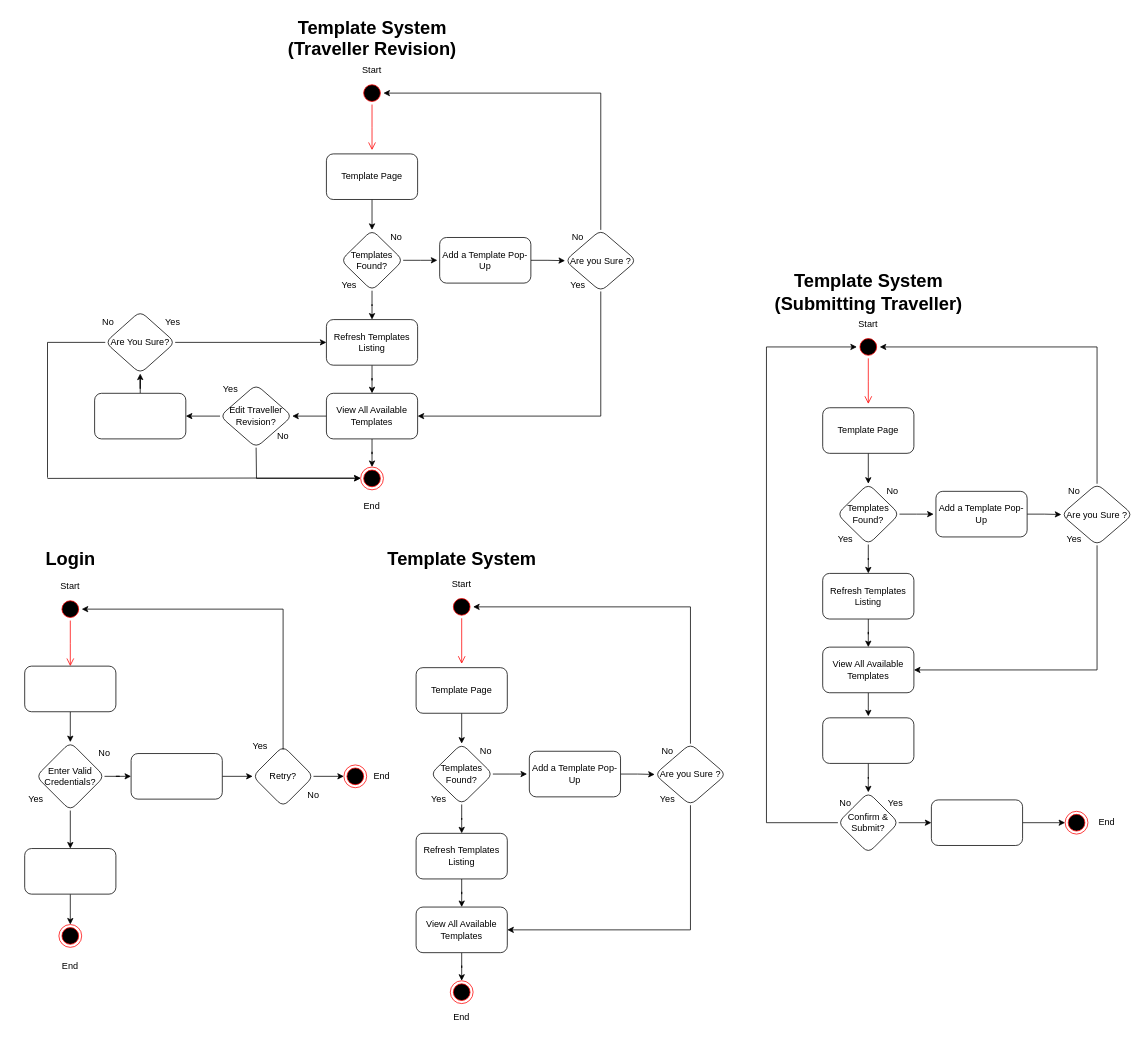
Some shapes in this 1146 by 1041 pixel diagram are drawn without their labels. Here are the shapes that lost their labels. From the top down, the centre of each, then its label:
At (x=140, y=416): "Traveller Revision Page".
At (x=70, y=688): "Login Page Prompt".
At (x=868, y=740): "Fill out Traveller Template".
At (x=176, y=776): "Wrong Password Entered".
At (x=977, y=822): "Submits Traveller Form to Database".
At (x=70, y=871): "Enter Landing Page".
